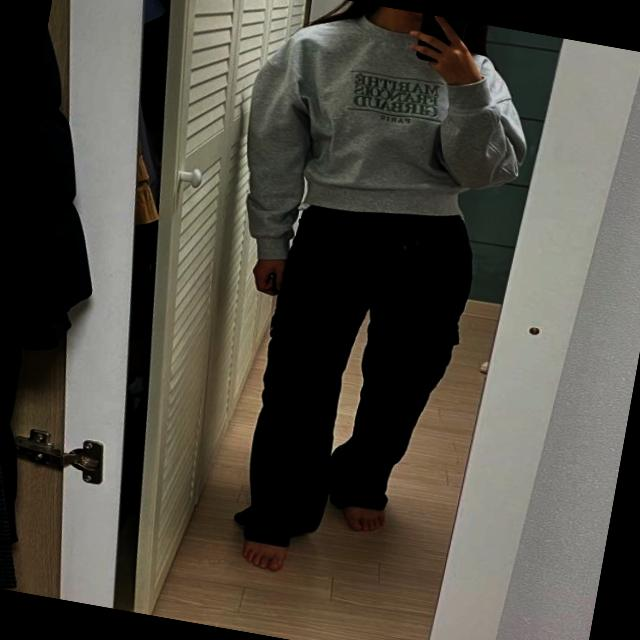denimpants: (229, 192, 478, 577)
mtm: (225, 0, 548, 301)
